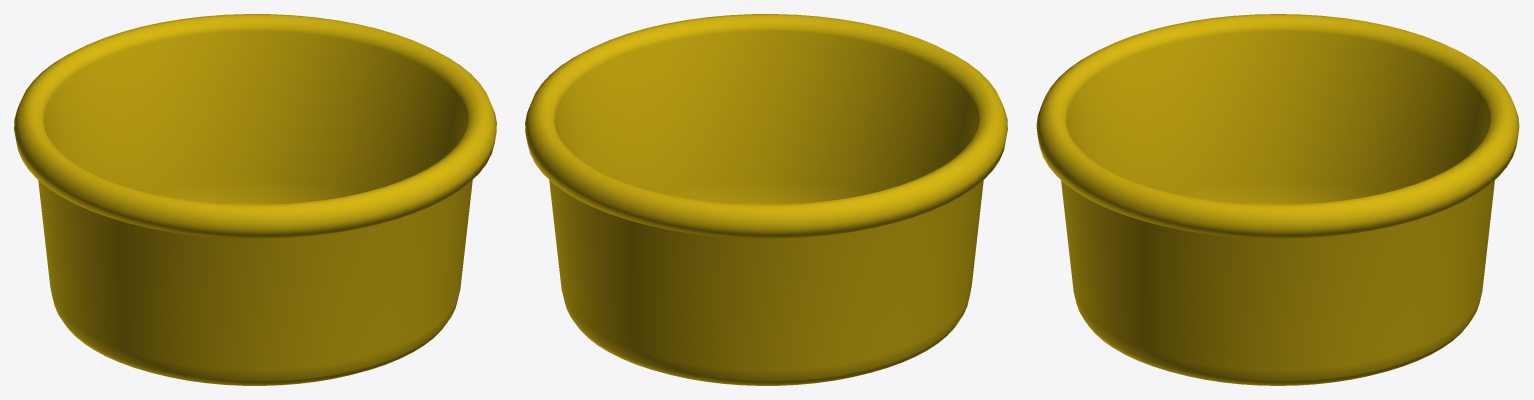
Rendered from candidate.glb.
3 renders of one model, left to right at view 1: azimuth 30°, elevation 25°; view 2: azimuth 150°, elevation 25°; view 3: azimuth 270°, elevation 25°, orthographic.
Parts seen in each view (by area): view 1: wash_basin; view 2: wash_basin; view 3: wash_basin.
Part boxes in pixels (bbox=[...]): wash_basin: bbox=[14, 14, 496, 385]; wash_basin: bbox=[525, 14, 1007, 385]; wash_basin: bbox=[1036, 14, 1519, 385].
Bounding box in the file's own units: 0.2 × 0.0905 × 0.2.
